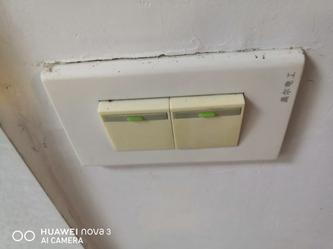switch: (165, 92, 250, 154), (93, 94, 178, 154)
